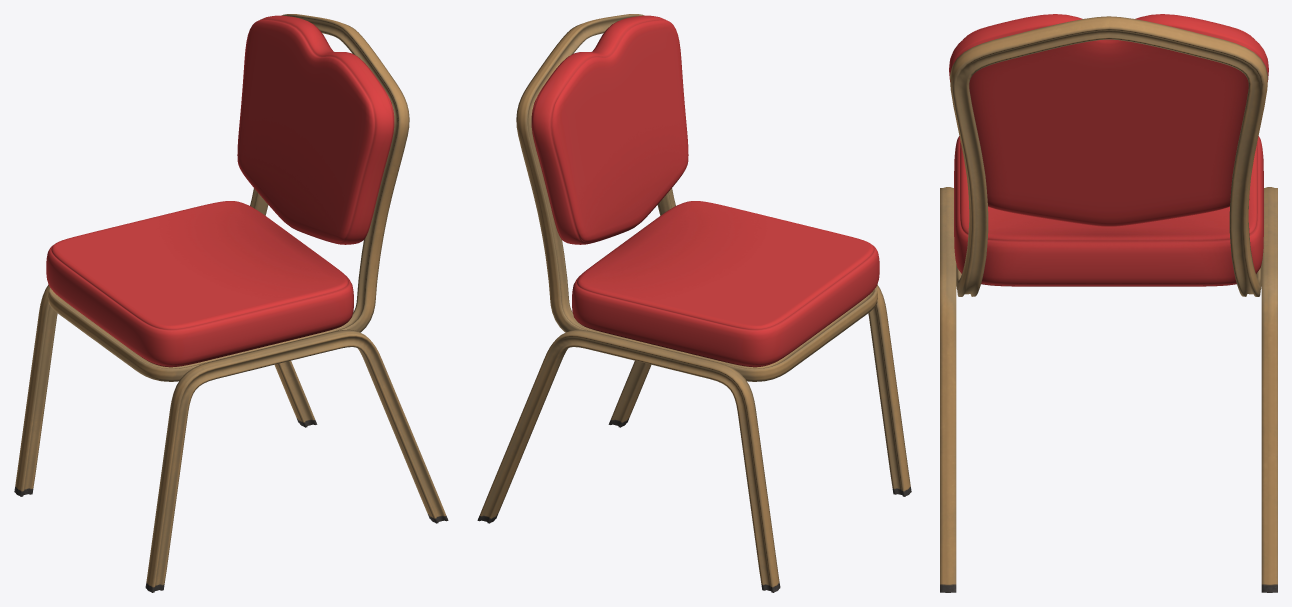
The model's file is single-chair.gltf.
The picture shows the model from 3 angles, left to right: view 1: azimuth 30°, elevation 25°; view 2: azimuth 150°, elevation 25°; view 3: azimuth 270°, elevation 25°; orthographic projection. The views are drawn at different scales.
Parts seen in each view (by area): view 1: RedChair; view 2: RedChair; view 3: RedChair.
Part boxes in pixels (<box>): RedChair: <box>14,14,448,592</box>; RedChair: <box>477,14,911,592</box>; RedChair: <box>940,14,1277,592</box>.
Bounding box in the file's own units: 0.5523 × 0.8015 × 0.4427.
1 material, 1 textured.
